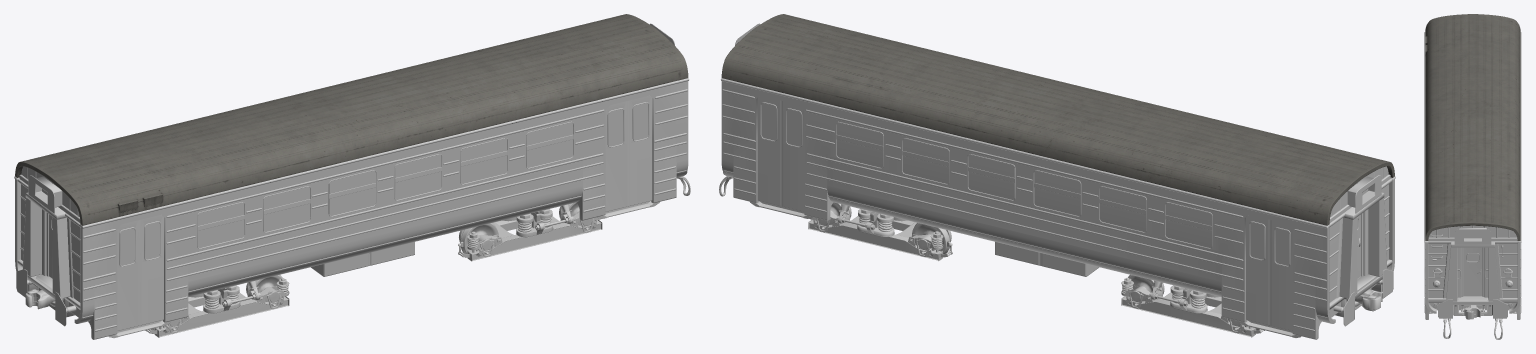
3 renders of one model, left to right at view 1: azimuth 30°, elevation 25°; view 2: azimuth 150°, elevation 25°; view 3: azimuth 270°, elevation 25°, orthographic. The views are drawn at different scales.
Parts seen in each view (by area): view 1: passenger_train_lcoach:passenger_train_lcoach_lod0_pass_trai (×5); view 2: passenger_train_lcoach:passenger_train_lcoach_lod0_pass_trai (×5); view 3: passenger_train_lcoach:passenger_train_lcoach_lod0_pass_trai (×4).
Boxes of the visible parts, left/top/right/bottom form: passenger_train_lcoach:passenger_train_lcoach_lod0_pass_trai (×5): left=14, top=14, right=690, bottom=339; passenger_train_lcoach:passenger_train_lcoach_lod0_pass_trai (×5): left=719, top=14, right=1395, bottom=339; passenger_train_lcoach:passenger_train_lcoach_lod0_pass_trai (×4): left=1424, top=14, right=1521, bottom=339.
Bounding box in the file's own units: 1.18 × 0.2931 × 0.2193.
